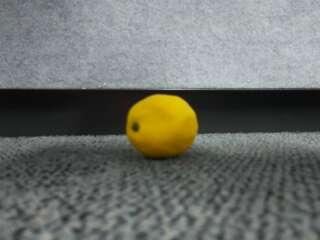lemon: (127, 94, 198, 158)
